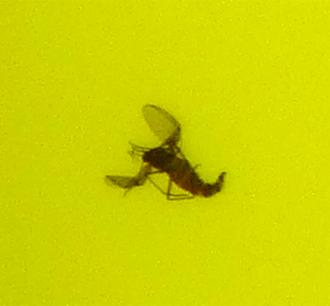Nematocera: (100, 100, 230, 206)
